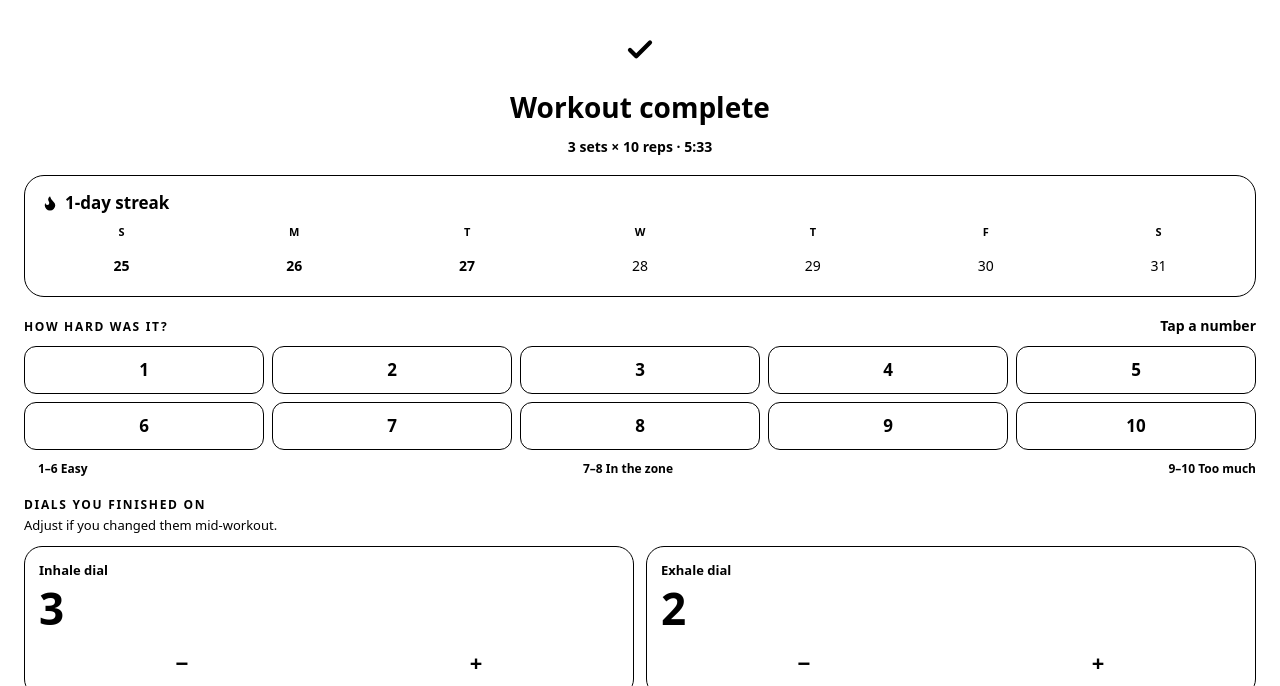
CompleteScreen › disables Save until an effort is picked and shows summary
The width and height of the screenshot is (1280, 686).
Expected: the text "3 sets × 10 reps · 5:33" is shown, [568,136,712,157]
Expected: the text "1-day streak" is shown, [65,190,169,216]
Click the button named "Effort 8". click: (640, 426)
box: [520,402,760,450]
(page scrolled)
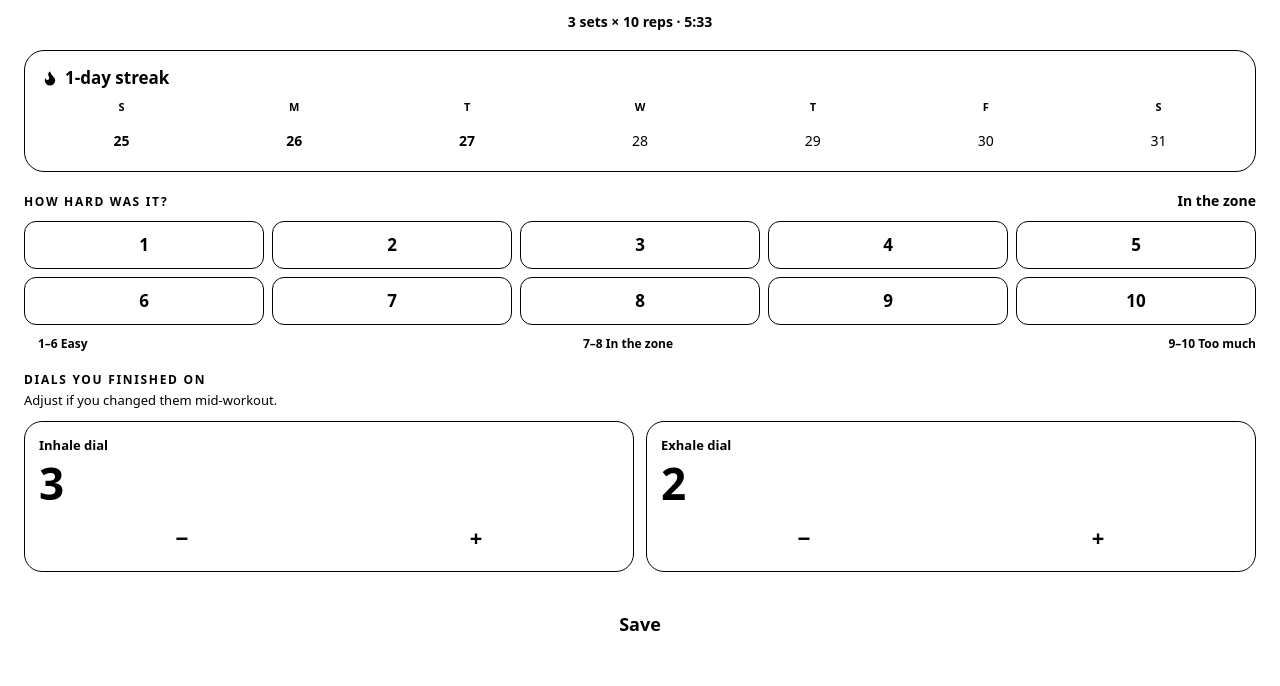
Expected: the text with test id "effort-zone" reads "In the zone", [1178,191,1256,210]
Expected: the button "Save" is enabled, [24,594,1256,654]
